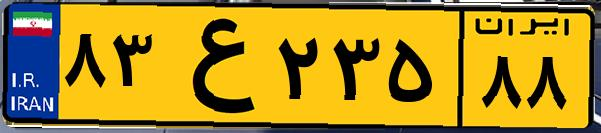2: (270, 28, 330, 110)
3: (330, 28, 385, 110), (110, 28, 158, 98)
5: (385, 28, 445, 110)
8: (57, 26, 110, 100), (475, 38, 525, 113), (525, 38, 570, 115)
ع: (158, 12, 270, 120)
